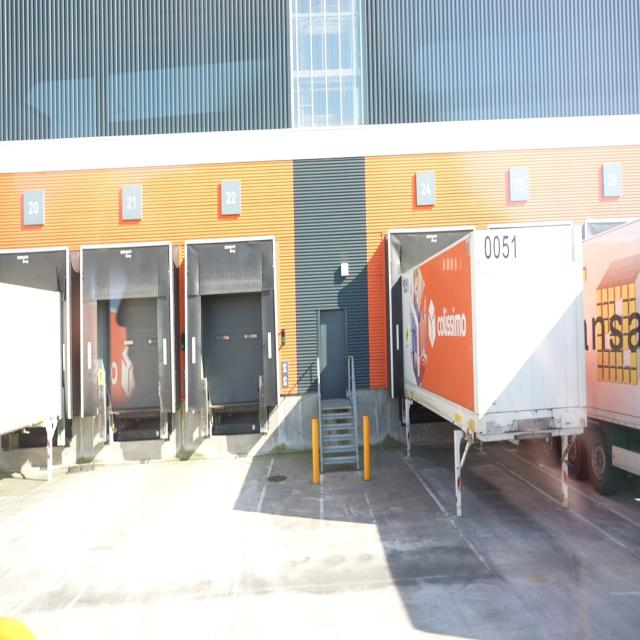Code: (481, 229, 523, 269)
